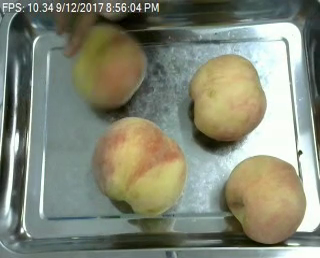Peach: (92, 116, 187, 216), (223, 155, 306, 244), (189, 53, 266, 142), (68, 22, 146, 109)
